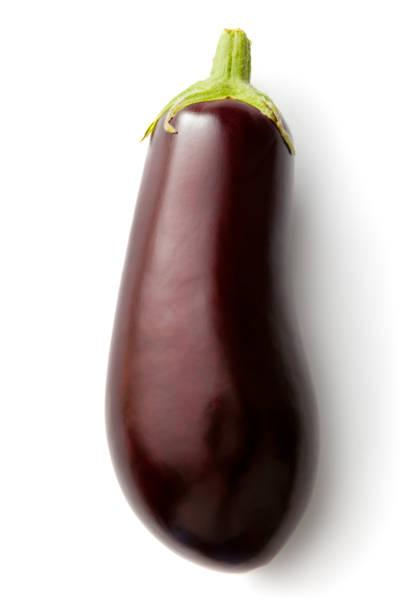Brinjal: (97, 17, 322, 576)
